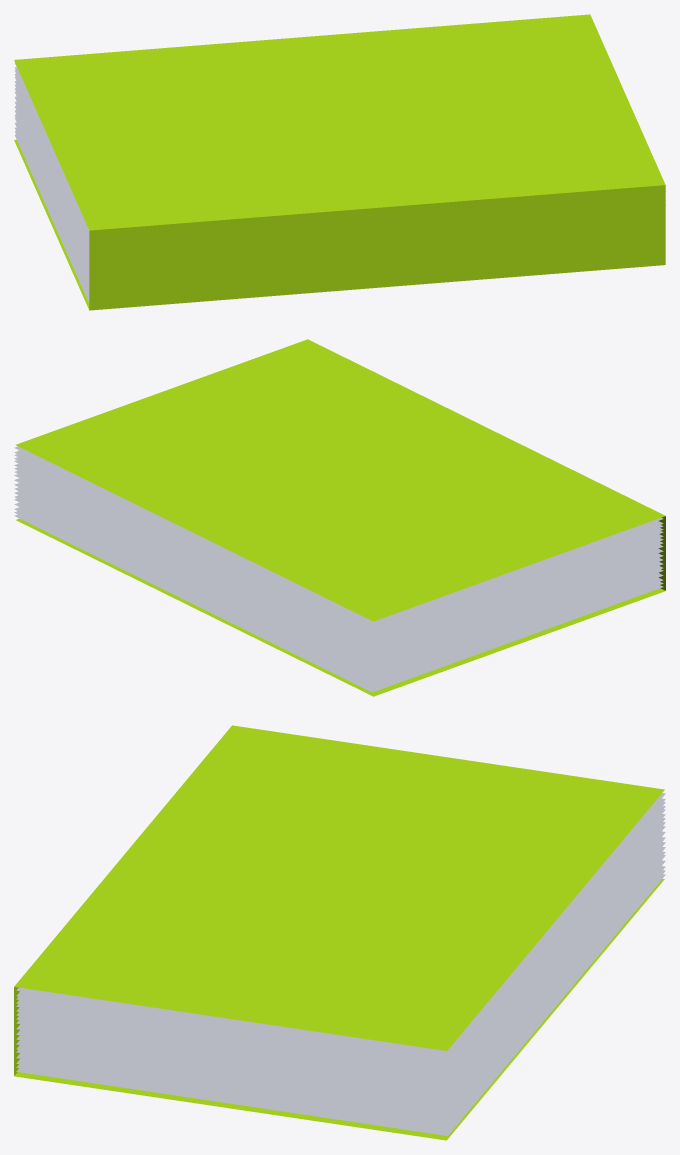
File: book.fbx
3 views of the same model, one above another, from view 1: azimuth 30°, elevation 25°; view 2: azimuth 150°, elevation 25°; view 3: azimuth 270°, elevation 25° (orthographic). The views are drawn at different scales.
Visible parts, largest first — view 1: sites, Plane.019; view 2: sites, Plane.019; view 3: sites, Plane.019.
Boxes of the visible parts, x1,y1,x2,y2 form: sites: [14, 14, 665, 310]; Plane.019: [14, 62, 665, 303]; sites: [16, 339, 665, 696]; Plane.019: [14, 446, 663, 692]; sites: [14, 725, 664, 1140]; Plane.019: [16, 793, 665, 1135].
Size of the model in its own units: 236 by 30.19 by 199.
